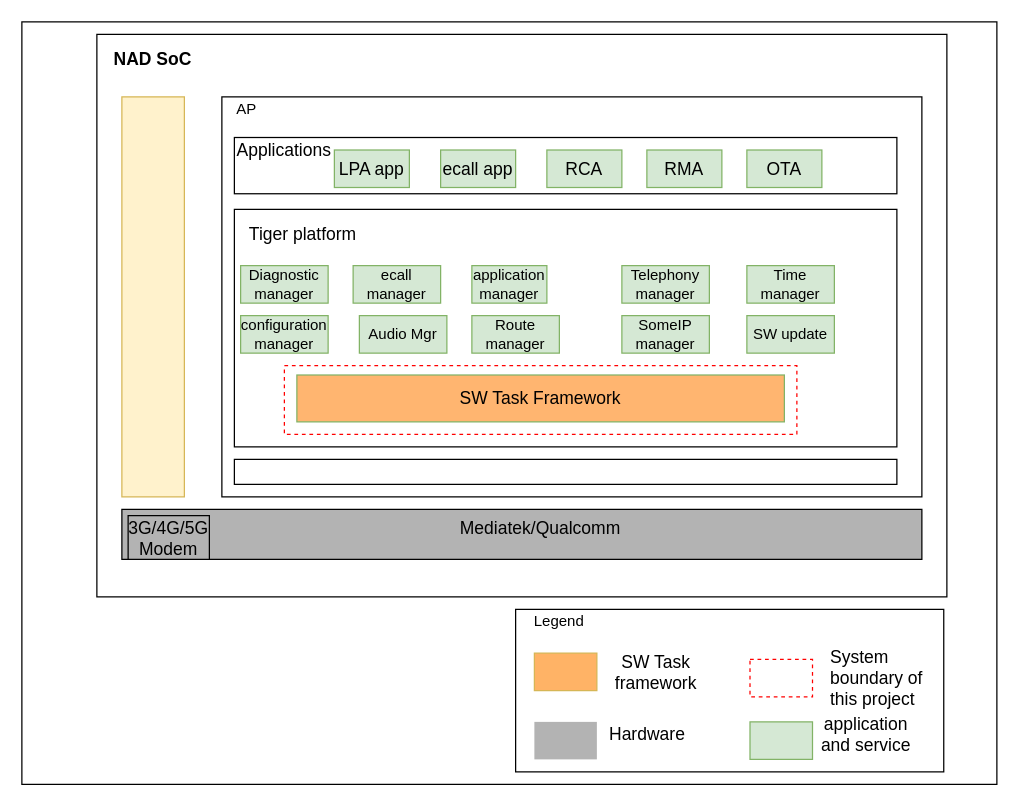
This 1019x806 diagram has some shape labels left out. Each missing label, with the centre of its shape:
"Linux" goes at point 565,471.
"Modem stack" goes at point 152,296.
